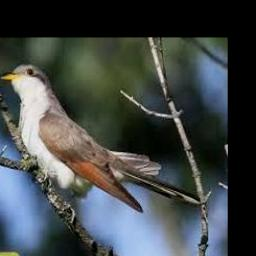Cuckoo: (0, 64, 202, 210)
